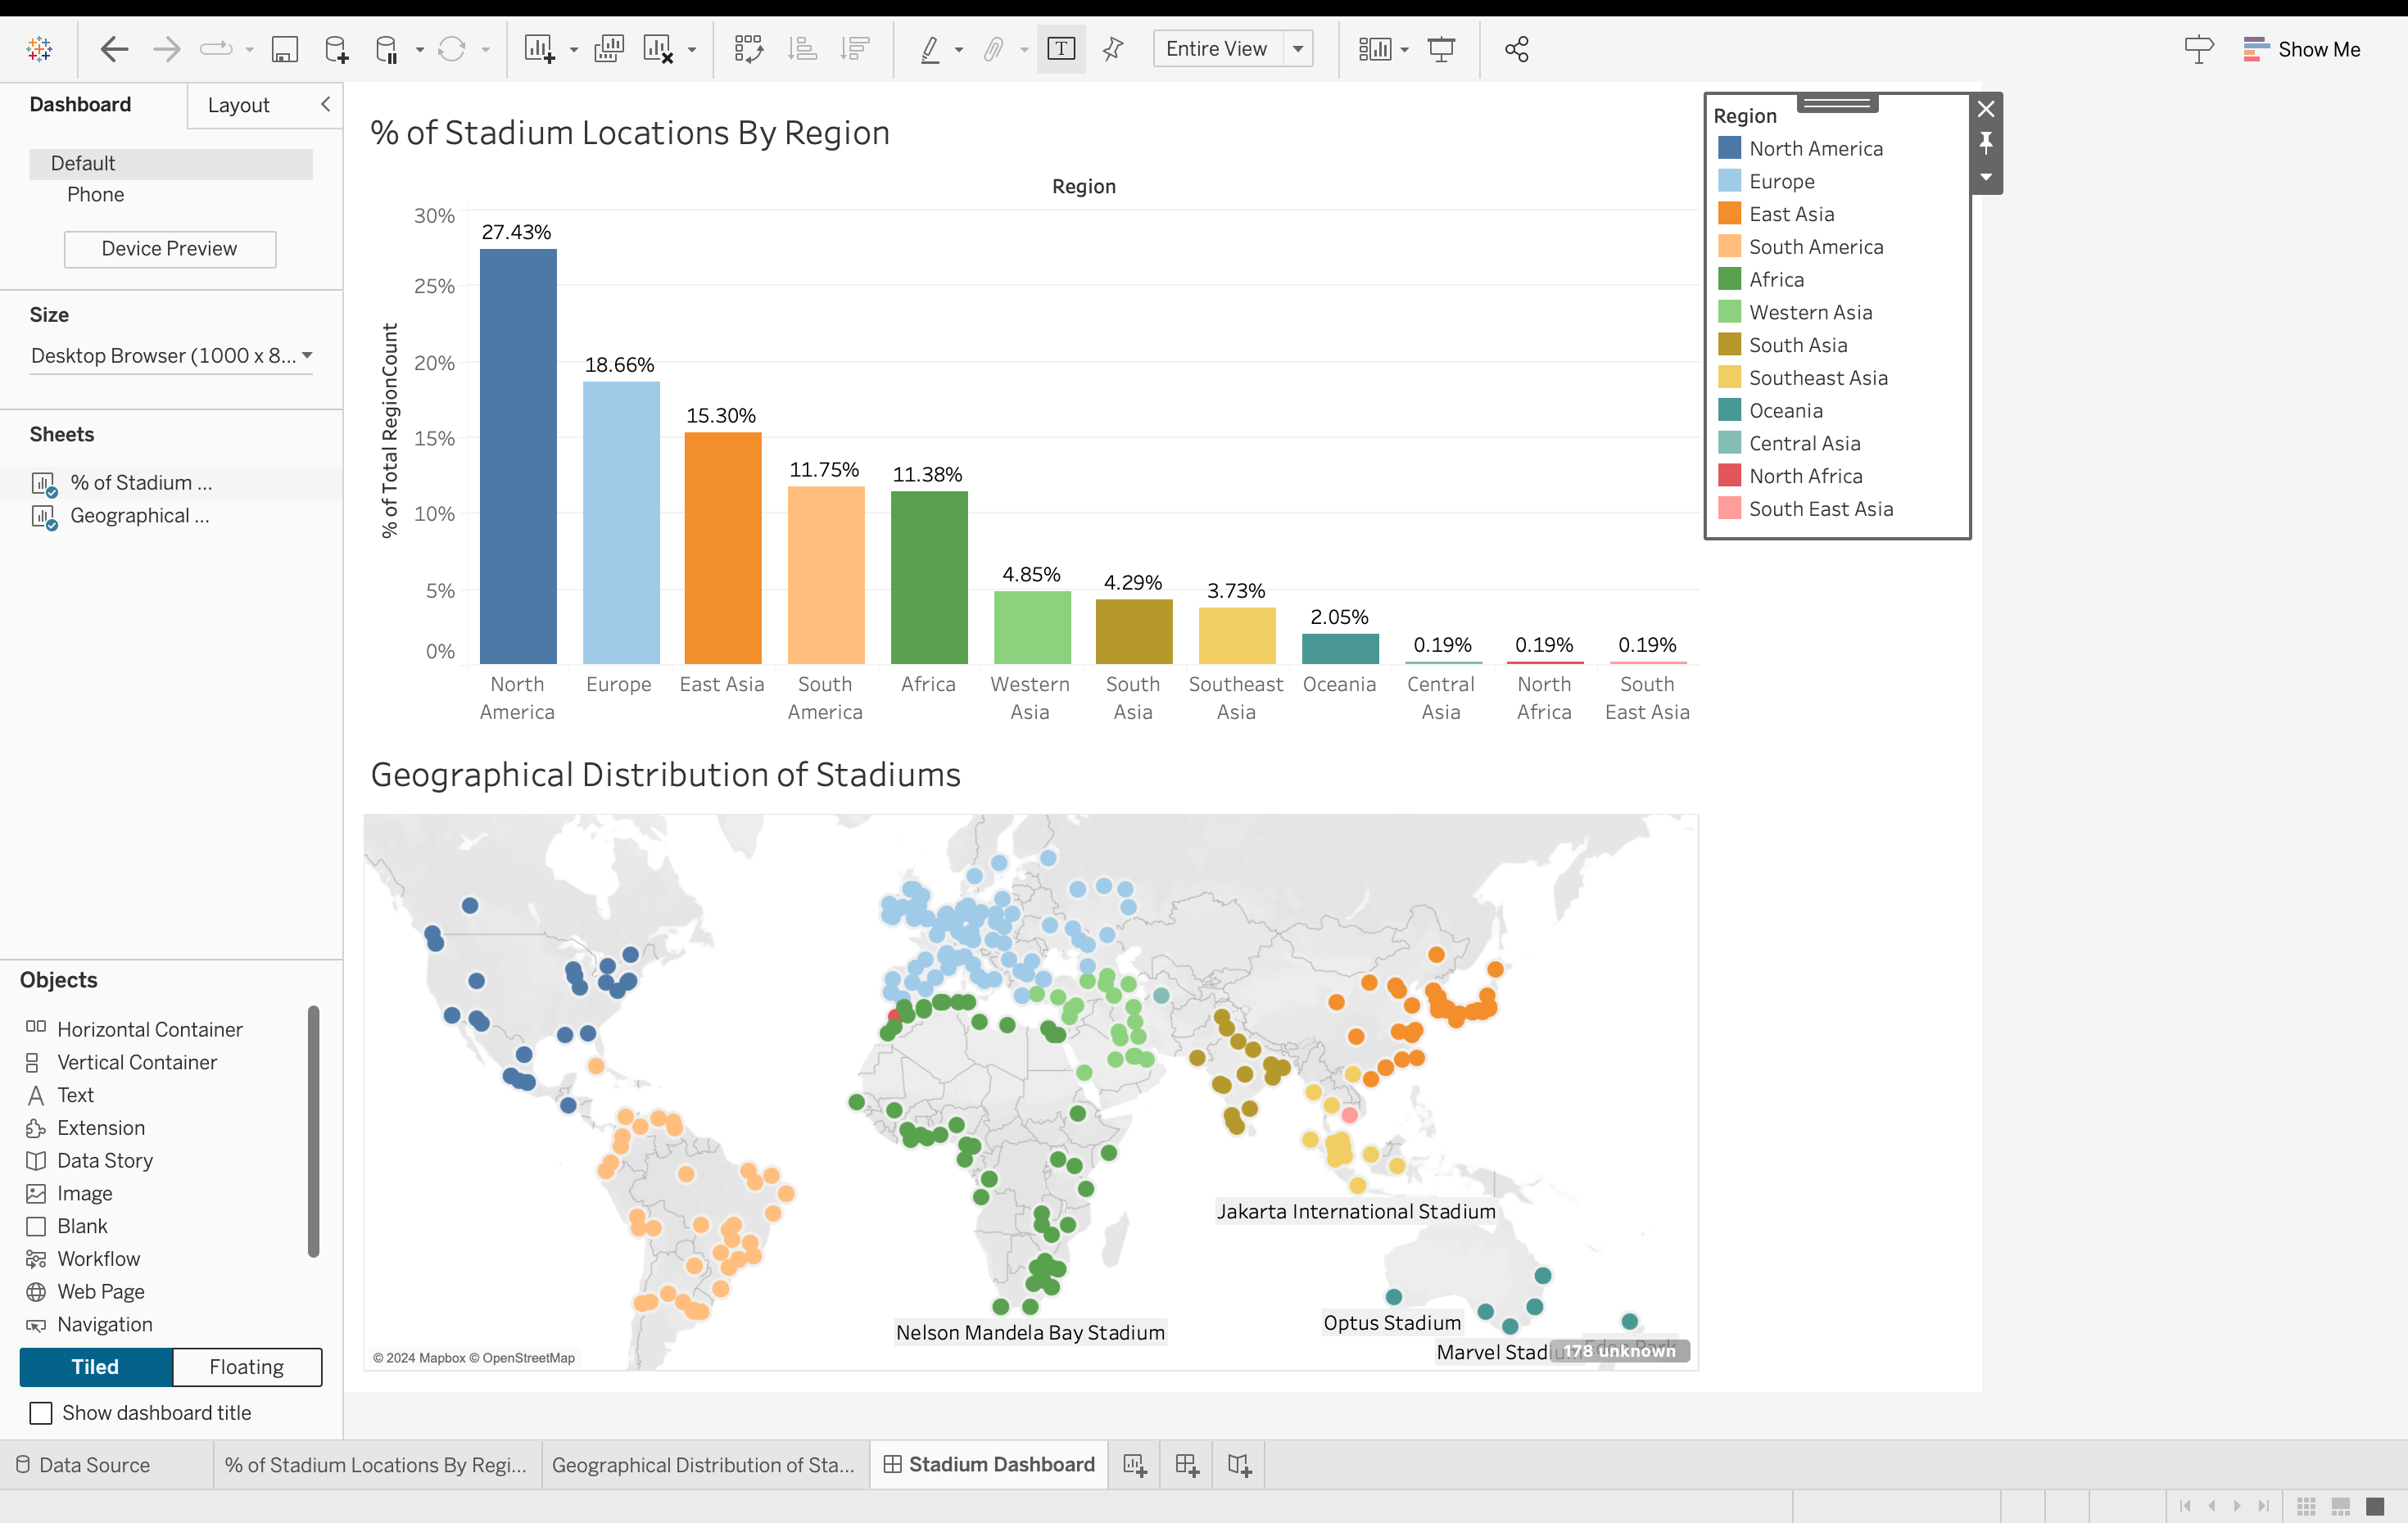

The dashboard page shown, as its layout file describes it:
{"tool":"tableau","page":{"name":"Stadium Dashboard","canvas":[1000,800],"ordinal":0},"visuals":[{"type":"worksheet","title":"% of Stadium Locations By Region ","mark":"Automatic","rows":["Calculation_366198977476947968"],"cols":["REGION"],"box":[8,8,824,392]},{"type":"legend","title":"% of Stadium Locations By Region ","param":"[federated.0blqrmu18b8o6g12423l801teb5q].[none:REGION:nk]","box":[832,8,160,270]},{"type":"worksheet","title":"Geographical Distribution of Stadiums","mark":"Automatic","box":[8,400,824,392]}]}

Visuals, with their boxes on the page's 1000x800 design canvas (x1, y1, x2, y2). These are canvas units, not pixel positions in the 2408x1523 screenshot, which may show the page scaled, cropped or inside an application window:
"% of Stadium Locations By Region " worksheet: {"x1": 8, "y1": 8, "x2": 832, "y2": 400}
"% of Stadium Locations By Region " legend: {"x1": 832, "y1": 8, "x2": 992, "y2": 278}
"Geographical Distribution of Stadiums" worksheet: {"x1": 8, "y1": 400, "x2": 832, "y2": 792}
